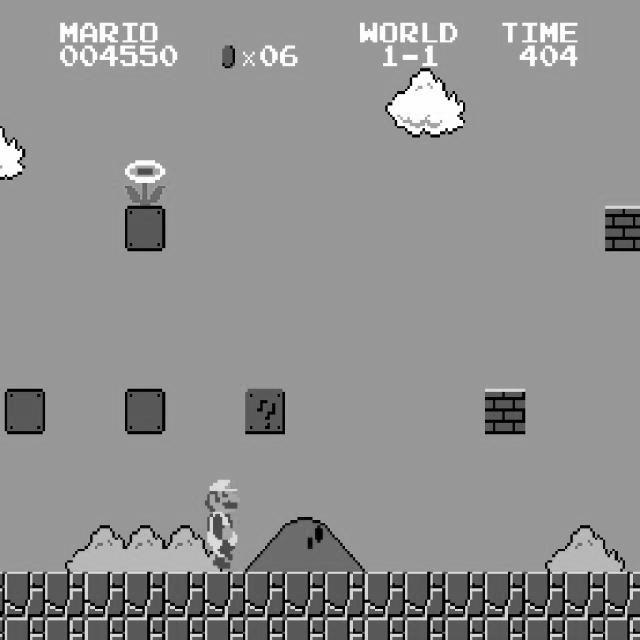1- brick_block: (484, 388, 526, 434), (605, 206, 640, 251)
13- mystery_block: (244, 388, 286, 434)
17- undestructible_block: (44, 572, 86, 618), (84, 572, 126, 618), (124, 572, 166, 618), (164, 572, 206, 618), (204, 572, 246, 618), (244, 572, 286, 618), (284, 572, 326, 618), (324, 572, 366, 618), (364, 572, 406, 618), (404, 572, 446, 618), (444, 572, 486, 618), (484, 572, 526, 618), (524, 572, 566, 618), (564, 572, 606, 618), (5, 572, 46, 618), (605, 572, 640, 618), (44, 617, 86, 640), (84, 617, 126, 640), (124, 617, 166, 640), (164, 617, 206, 640), (204, 617, 246, 640), (244, 617, 286, 640), (284, 617, 326, 640), (324, 617, 366, 640), (364, 617, 406, 640), (404, 617, 446, 640), (444, 617, 486, 640), (484, 617, 526, 640), (524, 617, 566, 640), (564, 617, 606, 640), (5, 617, 46, 640), (605, 617, 640, 640), (0, 572, 5, 618), (0, 617, 5, 640)
3- empty_block: (124, 388, 166, 434), (124, 206, 166, 251), (5, 388, 46, 434)
4- fire_mario: (200, 474, 242, 568)
6- flower: (122, 157, 165, 206)
